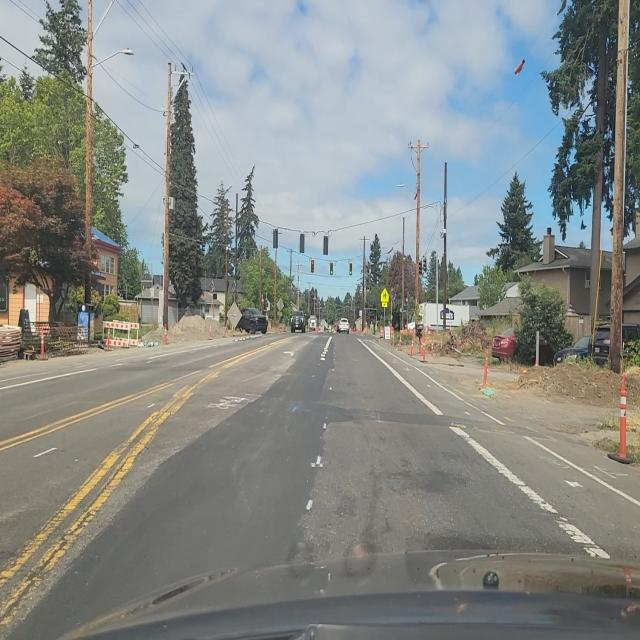car: (492, 329, 556, 366), (591, 324, 640, 367), (554, 336, 592, 366), (234, 308, 267, 335), (290, 311, 306, 334), (338, 318, 350, 334), (309, 317, 317, 331)
crosswalk-sign: (380, 288, 389, 308)
delineator: (618, 373, 628, 458), (481, 349, 489, 390), (420, 337, 426, 362), (40, 330, 45, 359), (426, 337, 432, 359), (409, 336, 414, 356), (164, 324, 168, 344), (391, 325, 395, 345), (106, 337, 112, 350), (430, 337, 434, 356), (398, 332, 402, 349), (208, 323, 212, 339), (380, 324, 384, 339), (403, 326, 408, 336), (223, 321, 226, 337), (173, 324, 176, 338), (316, 325, 320, 333), (357, 327, 361, 335)
